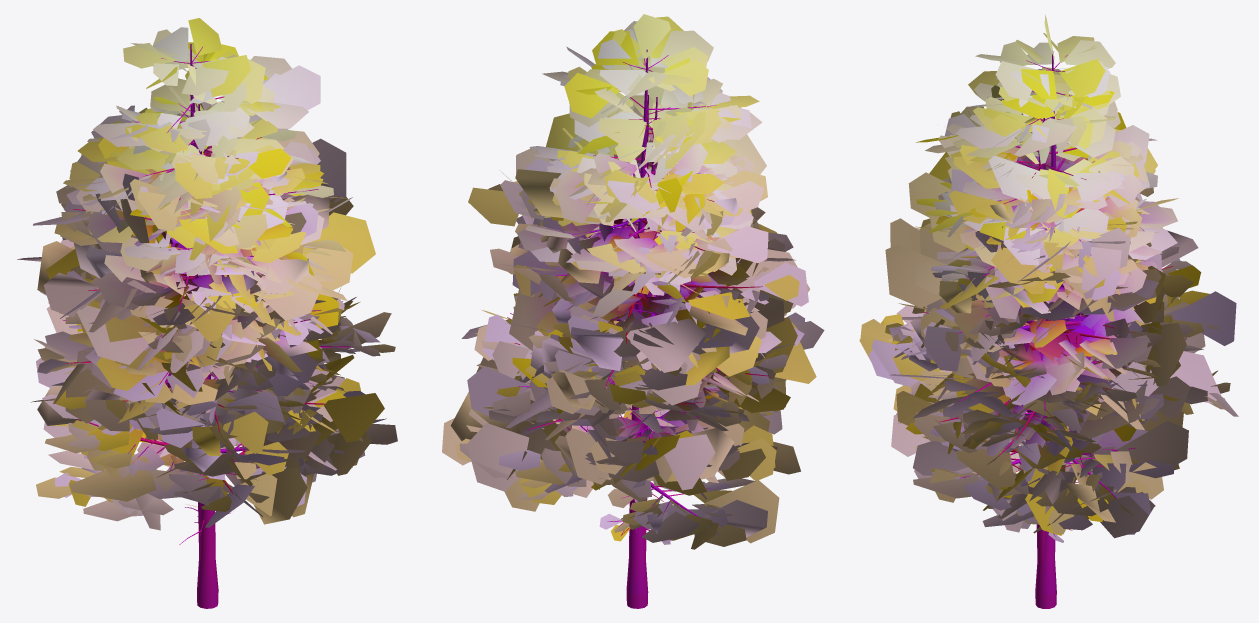
The model's file is white_pine.glb.
3 renders of one model, left to right at view 1: azimuth 30°, elevation 25°; view 2: azimuth 150°, elevation 25°; view 3: azimuth 270°, elevation 25°, orthographic. The views are drawn at different scales.
Parts seen in each view (by area): view 1: white_pine_v2_lod0, white_pine_v0_lod0, white_pine_v1_lod0; view 2: white_pine_v0_lod0, white_pine_v2_lod0, white_pine_v1_lod0; view 3: white_pine_v2_lod0, white_pine_v0_lod0, white_pine_v1_lod0.
Boxes of the visible parts, box(x1,y1,x2,y2) form: white_pine_v2_lod0: box(31, 78, 397, 608); white_pine_v0_lod0: box(17, 18, 353, 587); white_pine_v1_lod0: box(34, 70, 395, 498); white_pine_v0_lod0: box(468, 14, 824, 594); white_pine_v2_lod0: box(442, 66, 816, 608); white_pine_v1_lod0: box(461, 95, 794, 501); white_pine_v2_lod0: box(885, 74, 1221, 608); white_pine_v0_lod0: box(859, 14, 1236, 594); white_pine_v1_lod0: box(885, 111, 1238, 472).
Size of what is drawn, in the model's own units: 15.56 by 25.87 by 15.65.
